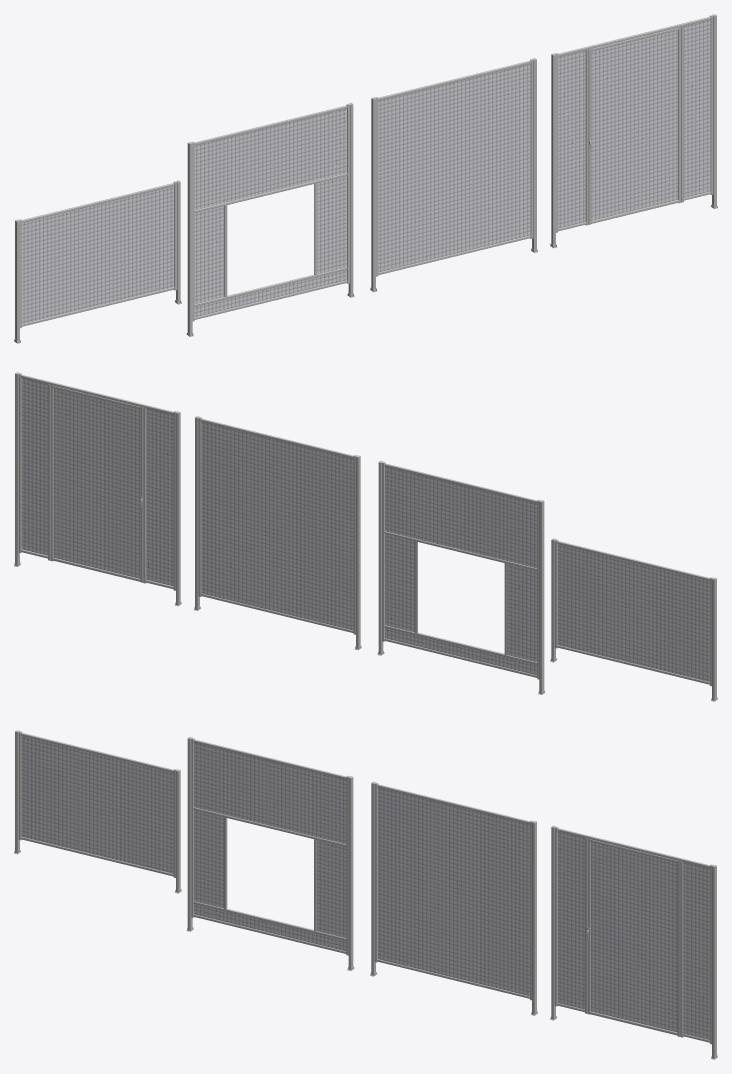
The model's file is Safety net.FBX.
3 views of the same model, one above another, from view 1: azimuth 30°, elevation 25°; view 2: azimuth 150°, elevation 25°; view 3: azimuth 330°, elevation 25° (orthographic).
Parts seen in each view (by area): view 1: Safety net_03_C, Safety net_02_C, Safety net_01_C, Safety net_Door_C, Safety net_04_C, Safety net_02_A, Safety net_04_A, Safety net_03_A, Safety net_Door_A, Safety net_02_B, Safety net_01_A, Safety net_03_B (+2 smaller); view 2: Safety net_03_C, Safety net_02_C, Safety net_01_C, Safety net_Door_C, Safety net_04_C, Safety net_02_A, Safety net_04_A, Safety net_03_A, Safety net_Door_A, Safety net_02_B, Safety net_01_A, Safety net_03_B (+2 smaller); view 3: Safety net_03_C, Safety net_02_C, Safety net_01_C, Safety net_Door_C, Safety net_04_C, Safety net_02_A, Safety net_04_A, Safety net_03_A, Safety net_02_B, Safety net_Door_A, Safety net_01_A, Safety net_03_B (+2 smaller).
Boxes of the visible parts, x1,y1,x2,y2 form: Safety net_03_C: [378, 63, 530, 272]; Safety net_02_C: [194, 108, 346, 317]; Safety net_01_C: [22, 186, 174, 323]; Safety net_Door_C: [591, 30, 678, 220]; Safety net_04_C: [558, 20, 710, 228]; Safety net_02_A: [186, 104, 354, 336]; Safety net_04_A: [550, 15, 717, 248]; Safety net_03_A: [370, 59, 537, 292]; Safety net_Door_A: [588, 27, 681, 224]; Safety net_02_B: [187, 103, 353, 335]; Safety net_01_A: [14, 181, 181, 343]; Safety net_03_B: [371, 58, 536, 290]; Safety net_03_C: [201, 422, 353, 630]; Safety net_02_C: [385, 466, 537, 675]; Safety net_01_C: [557, 544, 709, 681]; Safety net_Door_C: [53, 388, 140, 578]; Safety net_04_C: [21, 378, 173, 586]; Safety net_02_A: [377, 462, 545, 694]; Safety net_04_A: [14, 373, 181, 606]; Safety net_03_A: [194, 417, 361, 650]; Safety net_Door_A: [50, 385, 143, 582]; Safety net_02_B: [378, 461, 544, 693]; Safety net_01_A: [550, 539, 717, 701]; Safety net_03_B: [195, 416, 360, 648]; Safety net_03_C: [377, 787, 529, 995]; Safety net_02_C: [194, 742, 346, 951]; Safety net_01_C: [21, 736, 173, 873]; Safety net_Door_C: [590, 842, 677, 1032]; Safety net_04_C: [557, 831, 709, 1039]; Safety net_02_A: [186, 738, 354, 970]; Safety net_04_A: [550, 826, 717, 1059]; Safety net_03_A: [370, 782, 537, 1015]; Safety net_02_B: [187, 737, 353, 969]; Safety net_Door_A: [587, 838, 680, 1036]; Safety net_01_A: [14, 731, 181, 893]; Safety net_03_B: [371, 781, 536, 1014].
Size of the model in its own units: 9.05 by 2.37 by 0.078.
